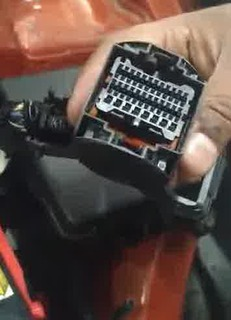connector: (72, 40, 206, 187)
